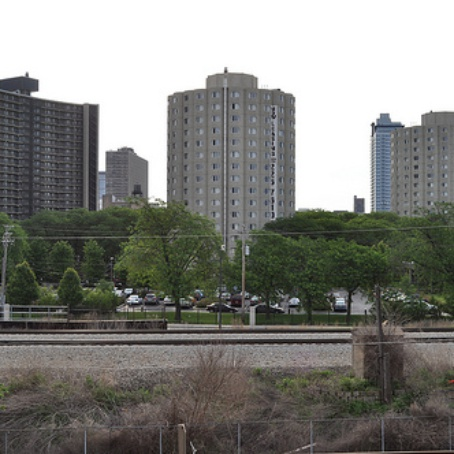building: (161, 78, 303, 257), (1, 77, 102, 215), (359, 103, 454, 218), (105, 147, 151, 206)
sky: (1, 1, 454, 129)
tree: (237, 218, 406, 317), (126, 207, 218, 333)
